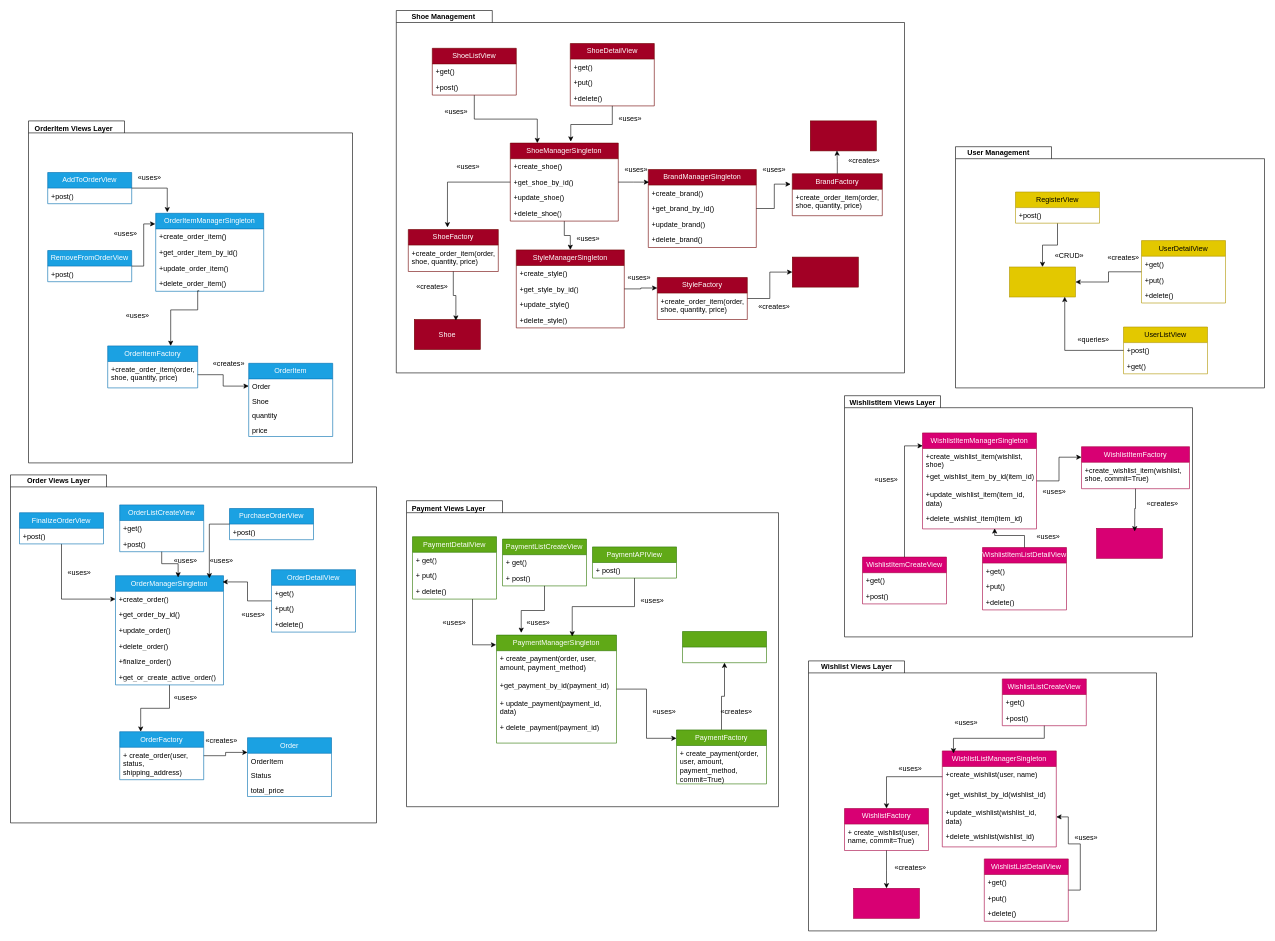
The diagram is 1275 pixels wide and 941 high, and some of its shapes have lost their labels. Here are the shapes that lost their labels. From the top down, the centre of each, then its label:
the point at 843,135: Brand
the point at 825,271: Style
the point at 1042,281: User
the point at 1129,543: WishlistItem
the point at 724,647: Payment
the point at 886,903: Wishlist
